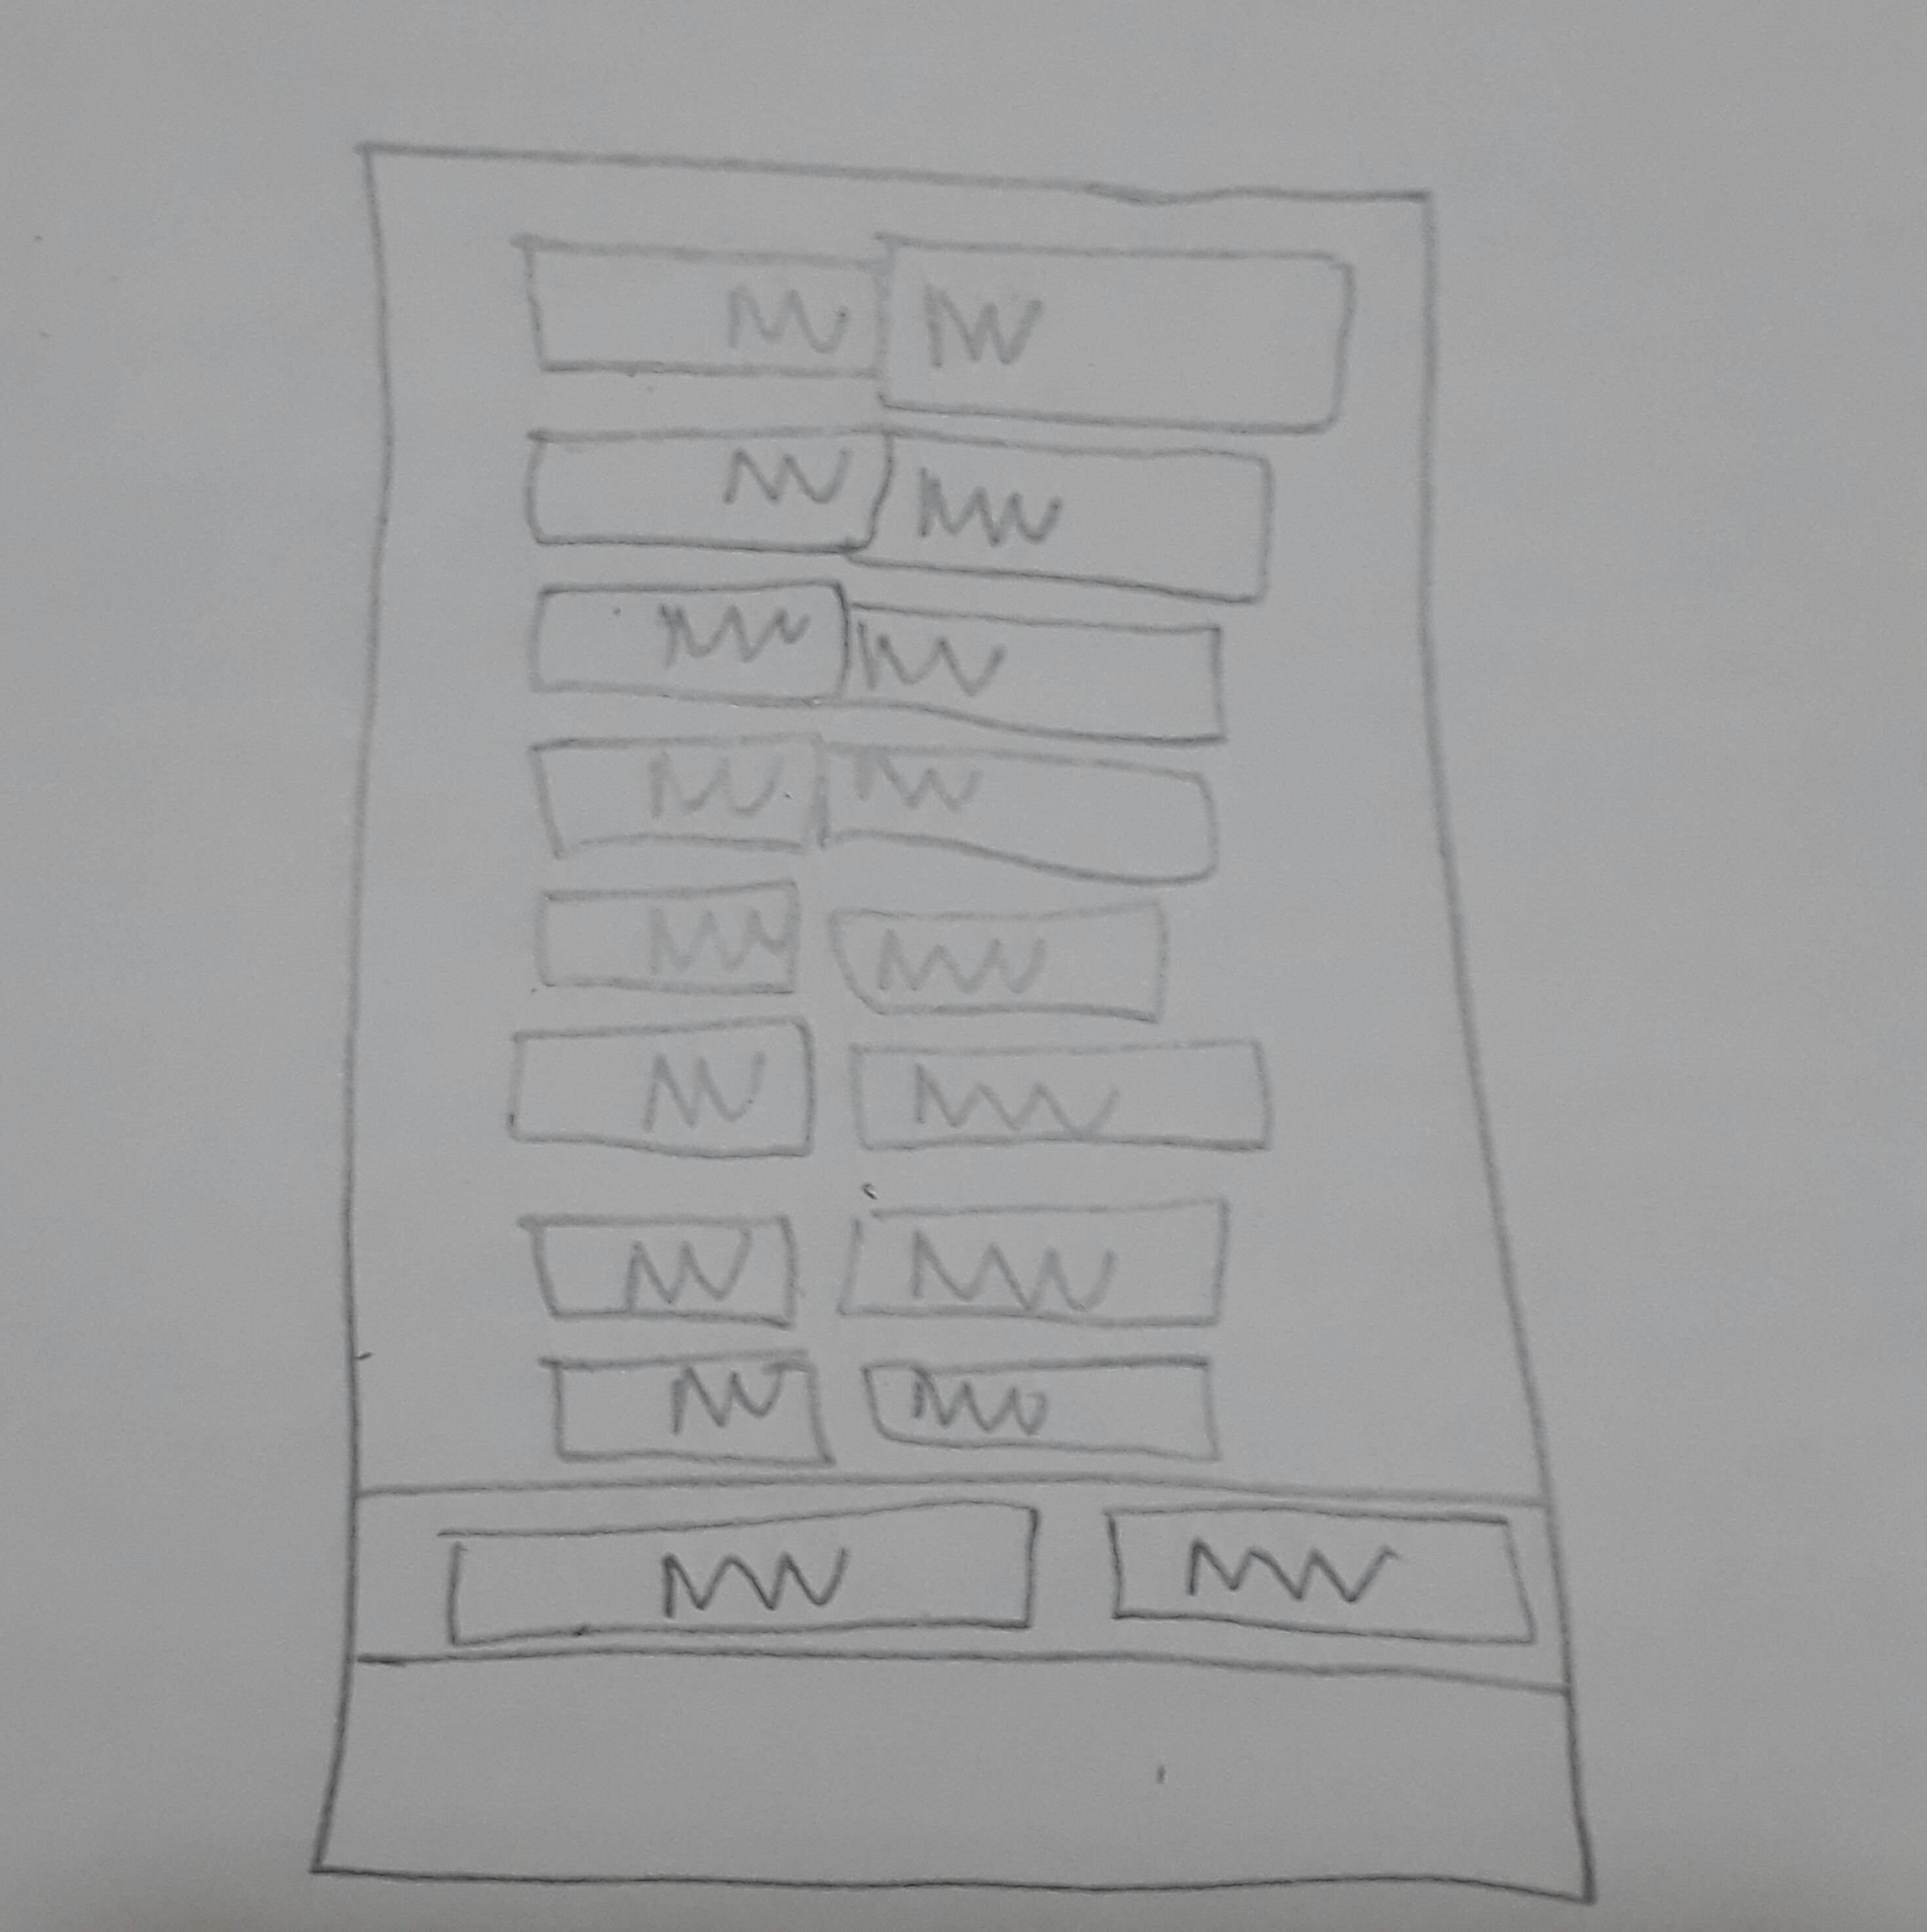Button: (884, 236, 1357, 438), (439, 1498, 1045, 1643), (861, 429, 1269, 605), (1103, 1500, 1533, 1651), (819, 739, 1219, 886), (514, 233, 889, 385), (833, 1194, 1230, 1334), (840, 609, 1230, 750), (503, 1015, 817, 1166), (851, 1041, 1274, 1152), (531, 429, 898, 550), (831, 898, 1172, 1025), (531, 579, 844, 711), (865, 1357, 1218, 1459), (531, 734, 821, 854), (514, 1212, 798, 1329), (547, 1352, 840, 1464), (535, 887, 803, 993)
Screen: (305, 138, 1590, 1886)
